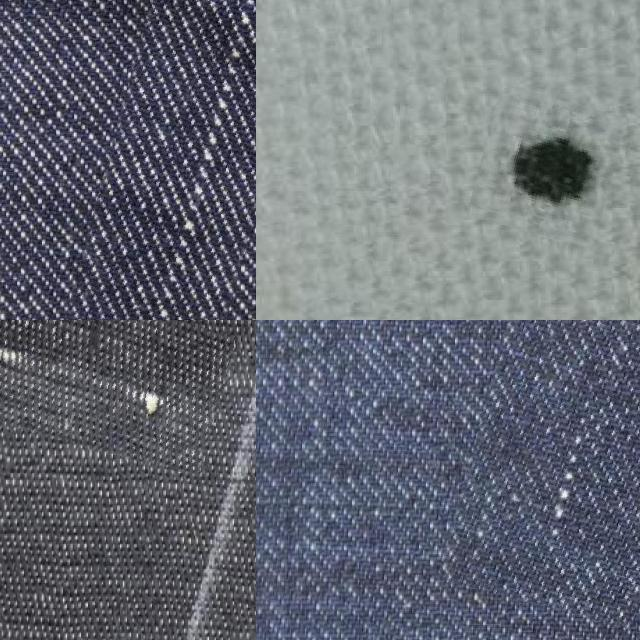Hole: (474, 92, 620, 242)
Thread_other: (70, 0, 256, 320), (455, 320, 640, 619), (0, 320, 230, 457)
